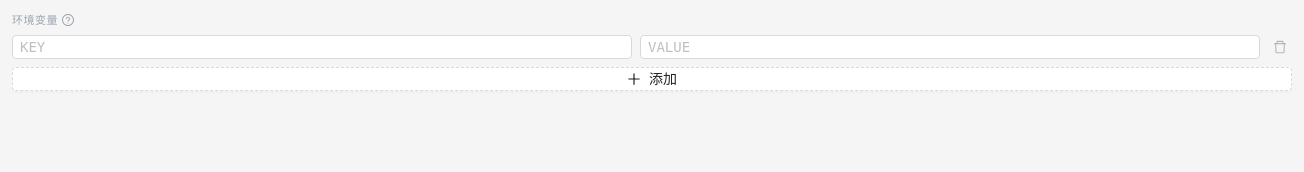
Test case: EnvEditor › 添加/删除行后输入正常
In the field with placeholder "KEY": (322, 46) [12,34,632,58], type "A"
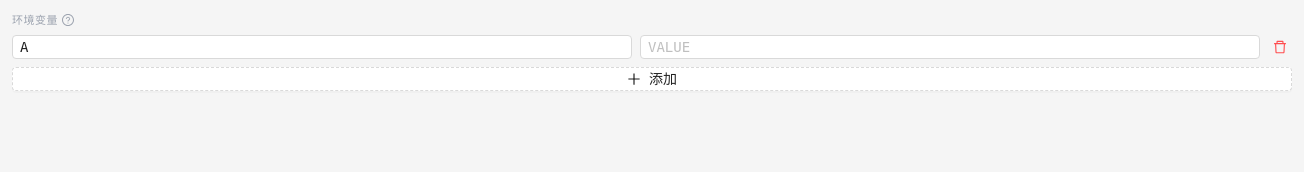
Click the button "添加": (652, 78) [12,66,1292,90]
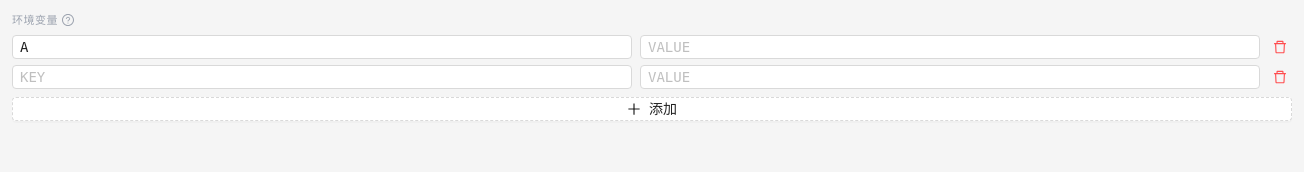
Result: the number of fields with placeholder "KEY" is 2
In the field with placeholder "KEY": (322, 76) [12,64,632,88], type "B"
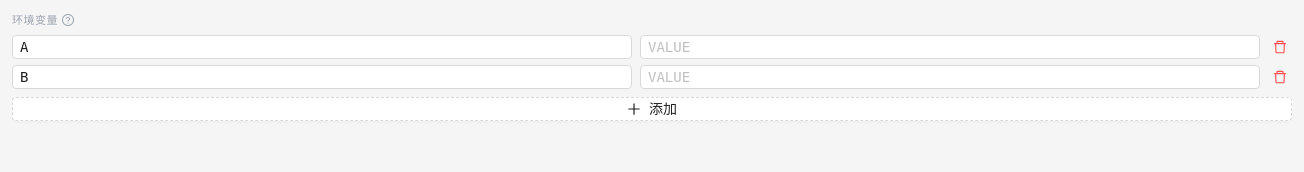
Click the 1st button: (1280, 46) [1268,34,1292,58]
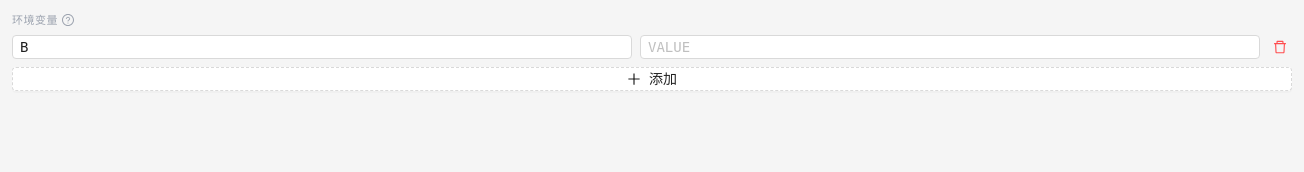
Result: the number of fields with placeholder "KEY" is 1 at [12,34,632,58]
